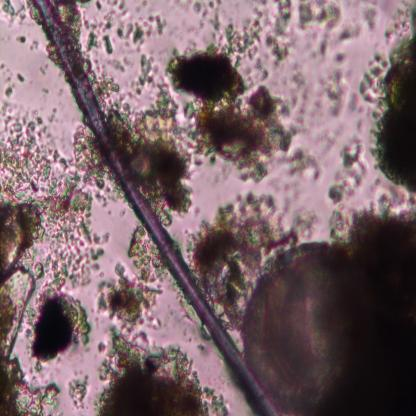Background material: (0, 106, 100, 287), (338, 191, 416, 414), (171, 48, 297, 186), (192, 196, 318, 310), (96, 325, 232, 415), (365, 0, 416, 190), (110, 100, 197, 209), (0, 198, 43, 414), (98, 226, 160, 326), (30, 289, 90, 365), (206, 8, 270, 70), (280, 70, 325, 142), (326, 135, 369, 205), (297, 1, 342, 57), (96, 61, 140, 107), (267, 1, 296, 64), (322, 71, 351, 121), (285, 150, 324, 186), (121, 14, 166, 44), (82, 16, 115, 56), (0, 60, 27, 99), (136, 50, 158, 88), (68, 372, 90, 408), (1, 0, 29, 27), (41, 377, 62, 409), (340, 21, 364, 44), (362, 5, 378, 36), (193, 0, 214, 18), (102, 0, 128, 14), (332, 50, 347, 66), (15, 33, 28, 45), (38, 85, 52, 96), (28, 36, 38, 50), (95, 0, 103, 13)
Diatom: (246, 240, 361, 405)
Microfibre: (34, 1, 282, 413)
